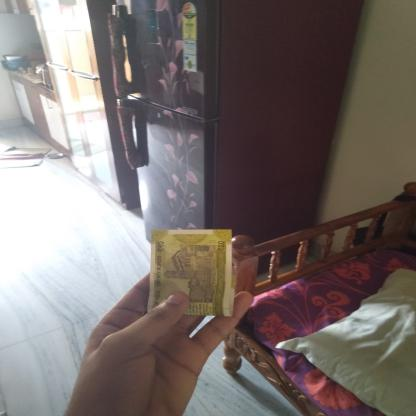New20Back: (148, 228, 228, 316)
